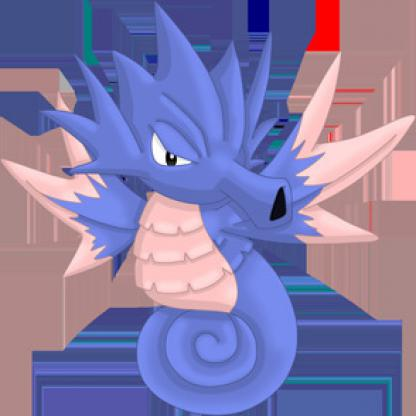Seadra: (39, 7, 355, 403)
